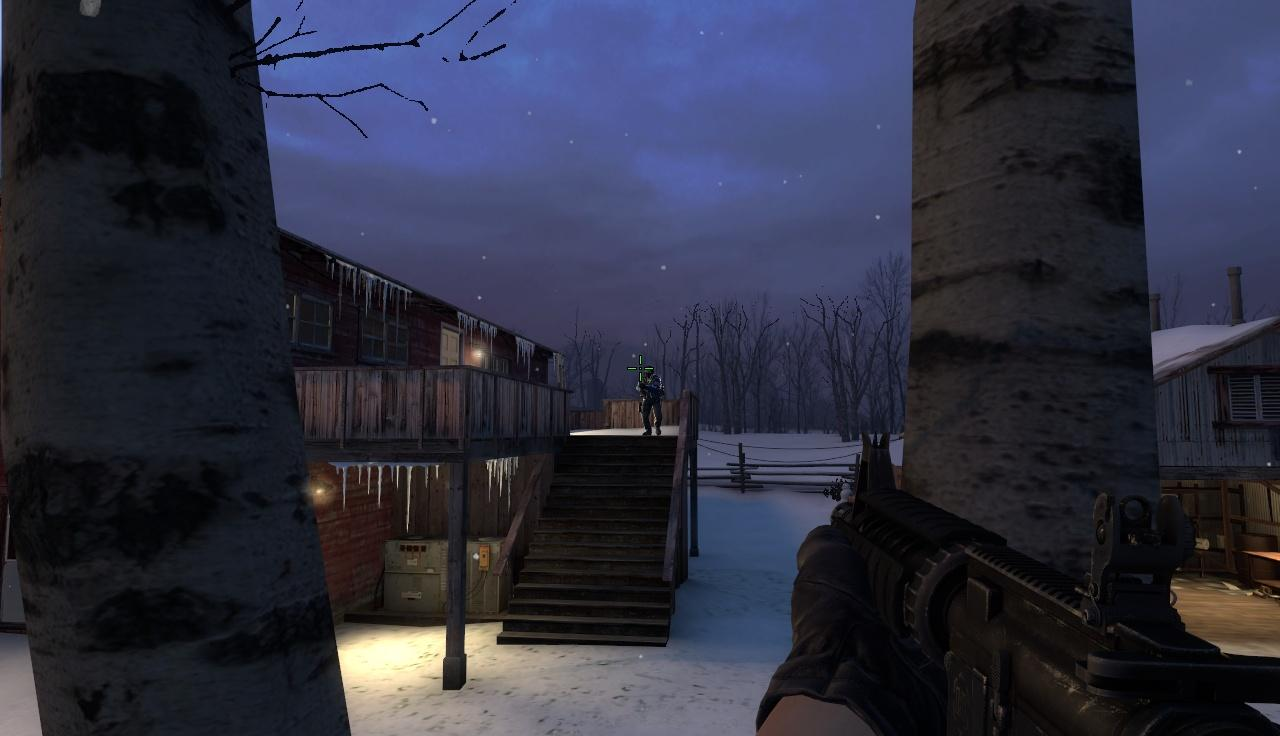ct: (638, 366, 663, 436)
cthead: (644, 367, 654, 377)
rifle: (811, 427, 1280, 736)
